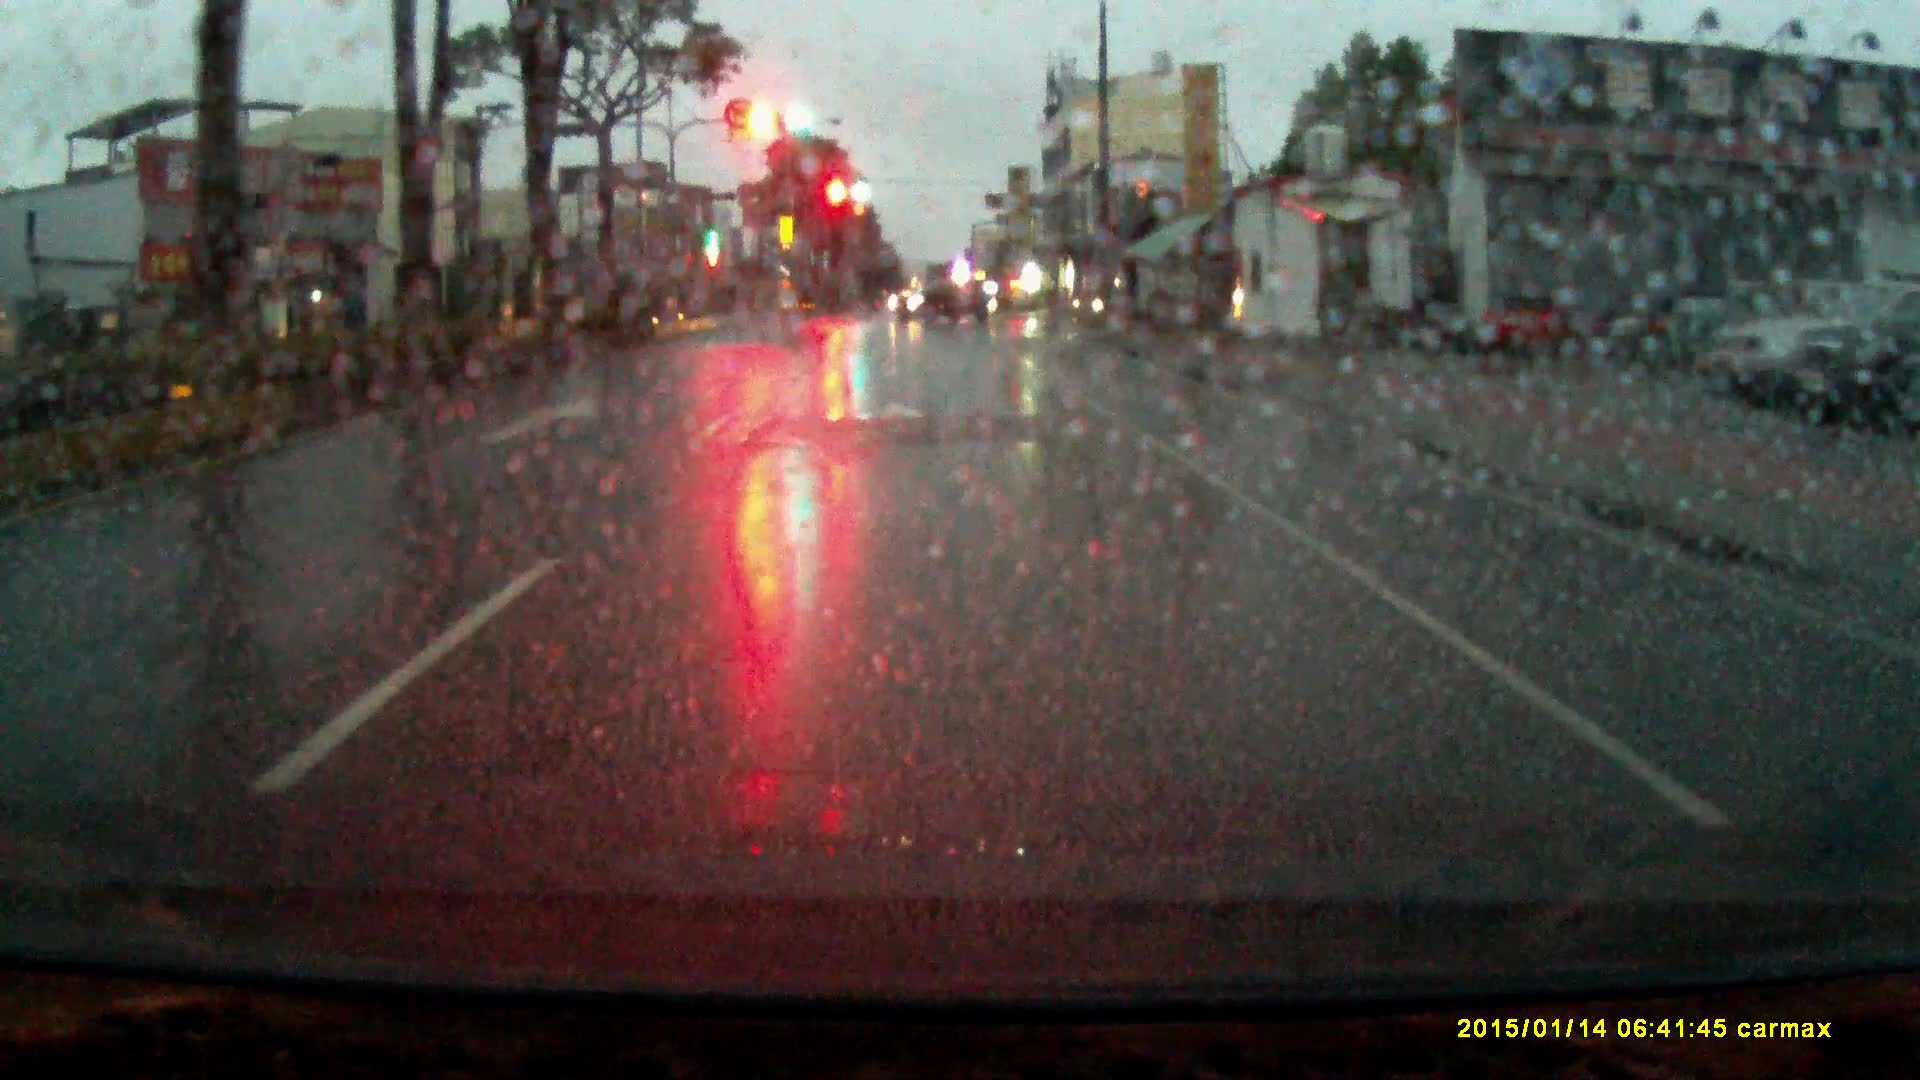vehicle: (1700, 277, 1920, 406), (1800, 301, 1920, 422), (887, 276, 989, 334)
